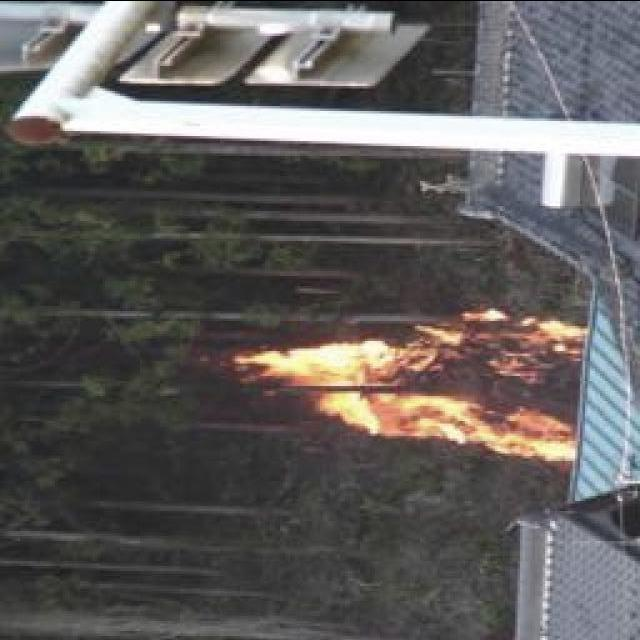Fire: (248, 312, 582, 451)
